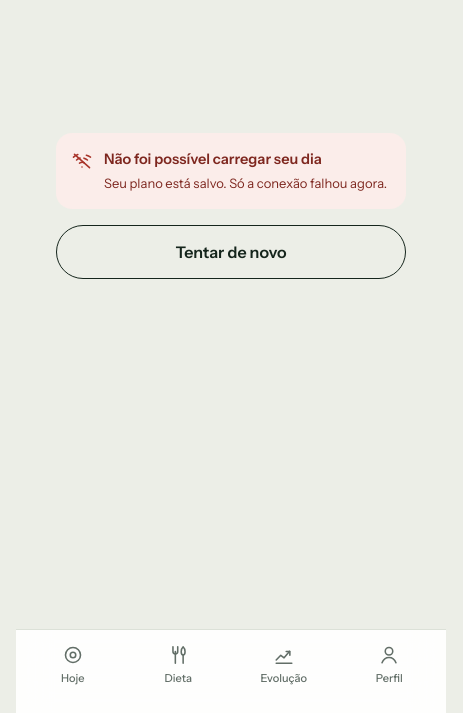
it: Hoje (S11) › erro de rede mostra o ErrorState com "Tentar de novo"
The image size is (463, 713).
Check: the text "Não foi possível carregar seu dia" is shown, box x1=104 y1=150 x2=322 y2=168
Click the button "Tentar de novo": (231, 252) x1=56 y1=225 x2=406 y2=279
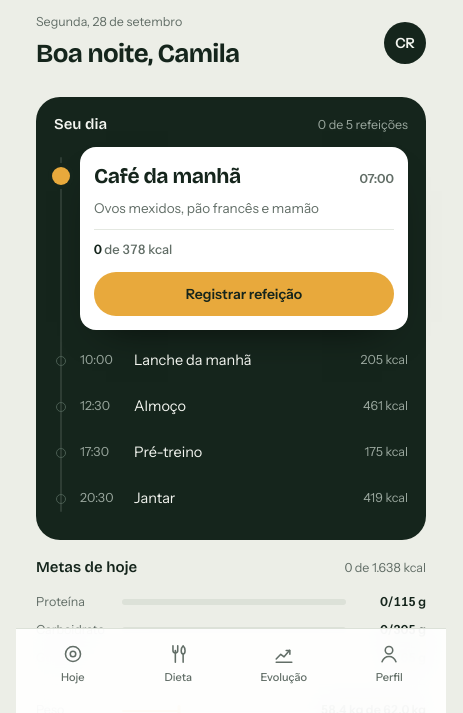
Check: the text "0 de 5 refeições" is shown, box x1=318 y1=116 x2=408 y2=135
